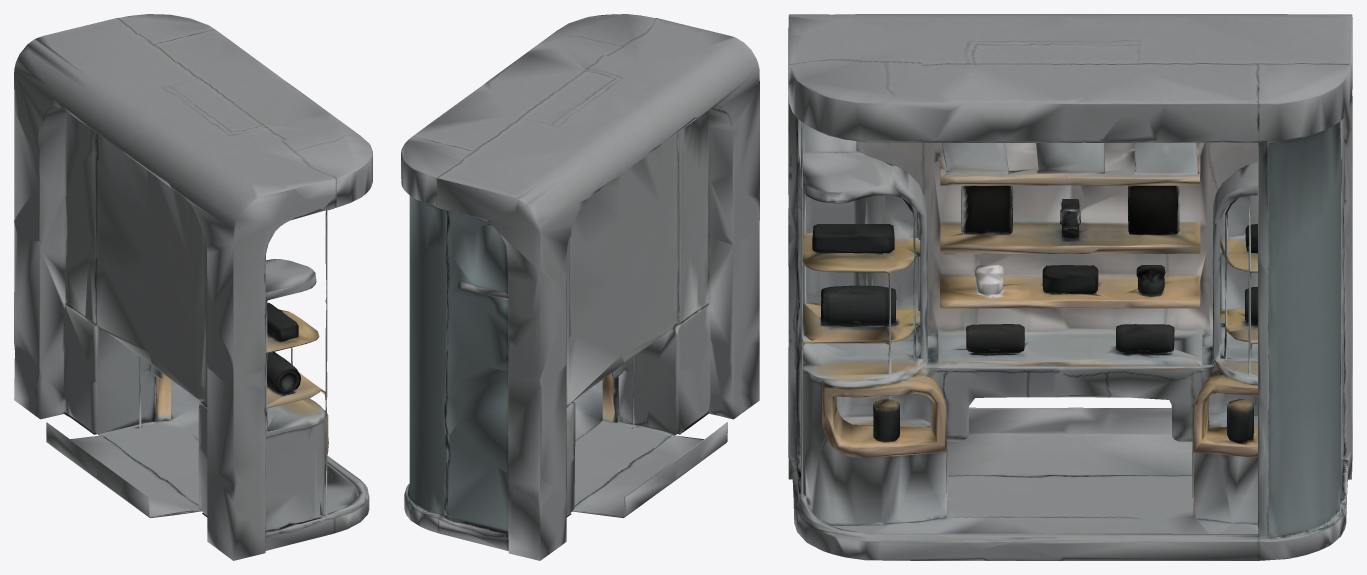
Rendered from frontclw.glb.
3 views of the same model, side by side, from view 1: azimuth 30°, elevation 25°; view 2: azimuth 150°, elevation 25°; view 3: azimuth 270°, elevation 25° (orthographic). The views are drawn at different scales.
Parts seen in each view (by area): view 1: tripo_node_e9c7b41d-e00e-47ac-931f-928e804d7f1a; view 2: tripo_node_e9c7b41d-e00e-47ac-931f-928e804d7f1a; view 3: tripo_node_e9c7b41d-e00e-47ac-931f-928e804d7f1a.
Boxes of the visible parts, x1,y1,x2,y2 form: tripo_node_e9c7b41d-e00e-47ac-931f-928e804d7f1a: (14, 14, 372, 560); tripo_node_e9c7b41d-e00e-47ac-931f-928e804d7f1a: (401, 14, 759, 560); tripo_node_e9c7b41d-e00e-47ac-931f-928e804d7f1a: (788, 14, 1352, 560).
Size of the model in its own units: 1.01 by 1.8 by 2.
1 material, 1 textured.
